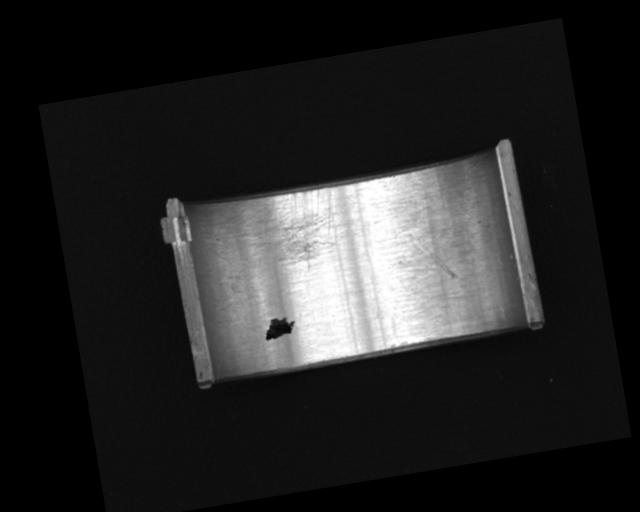blot: (261, 314, 298, 342)
nick: (411, 227, 458, 284)
scratch: (224, 182, 342, 281)
